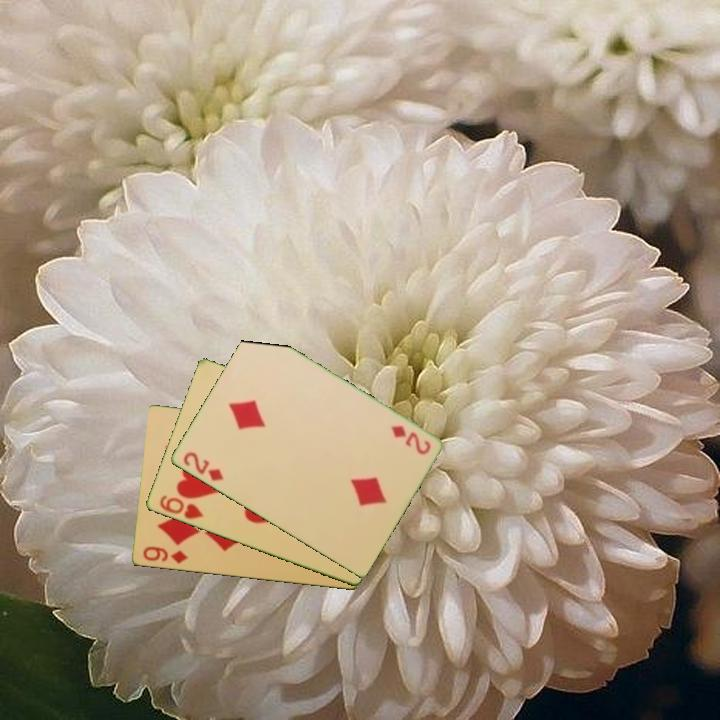2d: (179, 448, 226, 484), (387, 422, 433, 458)
6h: (156, 492, 206, 522)
9d: (139, 543, 191, 567)
